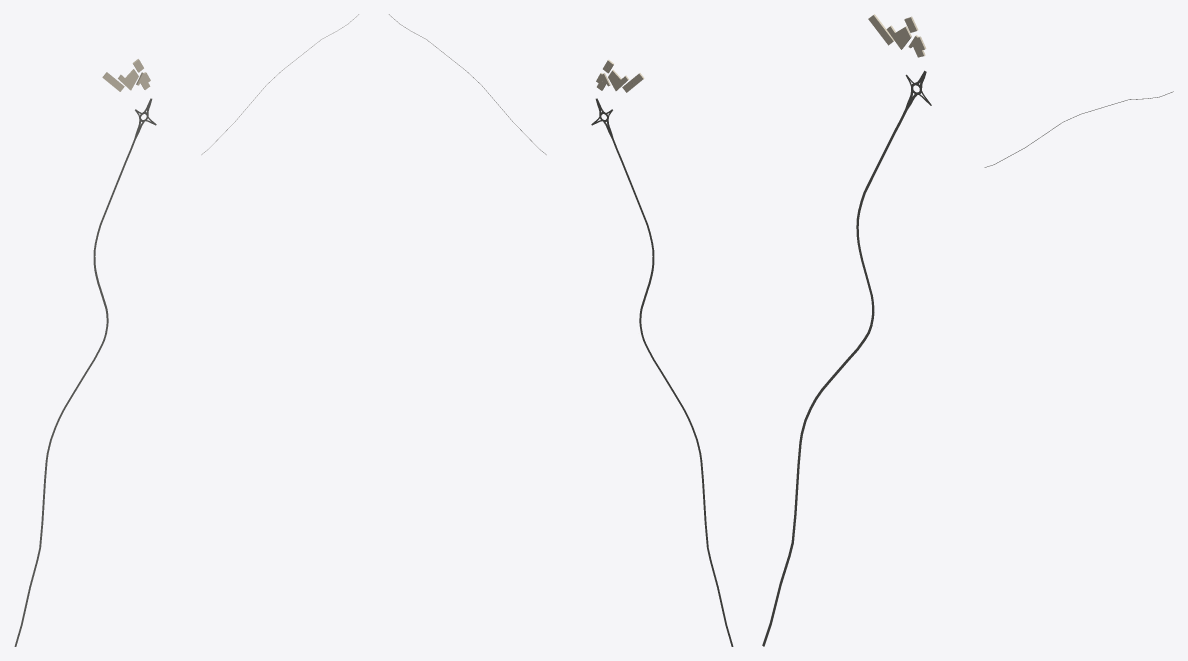
The model's file is historic-palestine-11_30_3532_3243.glb.
The picture shows the model from 3 angles, left to right: view 1: azimuth 30°, elevation 25°; view 2: azimuth 150°, elevation 25°; view 3: azimuth 330°, elevation 25°; orthographic projection. The views are drawn at different scales.
Parts seen in each view (by area): view 1: Road Main way Between Villages; view 2: Road Main way Between Villages; view 3: Road Main way Between Villages.
Part boxes in pixels (<box>): Road Main way Between Villages: <box>14,139,135,646</box>; Road Main way Between Villages: <box>612,139,733,646</box>; Road Main way Between Villages: <box>762,109,906,646</box>.
Size of the model in its own units: 1408 by 2174 by 9.09.
